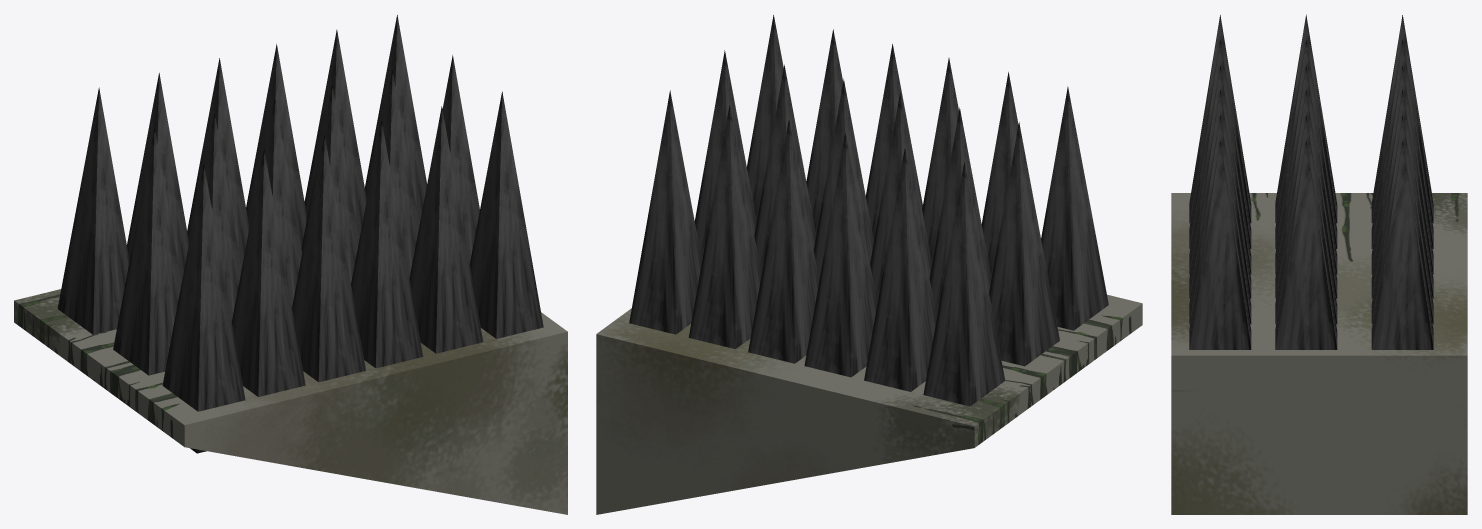
Rendered from Spikes.fbx.
3 views of the same model, side by side, from view 1: azimuth 30°, elevation 25°; view 2: azimuth 150°, elevation 25°; view 3: azimuth 270°, elevation 25° (orthographic). The views are drawn at different scales.
Parts seen in each view (by area): view 1: Box001.1; view 2: Box001.1; view 3: Box001.1.
Part boxes in pixels (<box>): Box001.1: <box>14,15,567,514</box>; Box001.1: <box>596,15,1142,514</box>; Box001.1: <box>1171,14,1467,514</box>.
Size of the model in its own units: 7316 by 7526 by 5632.
1 material, 1 textured.
